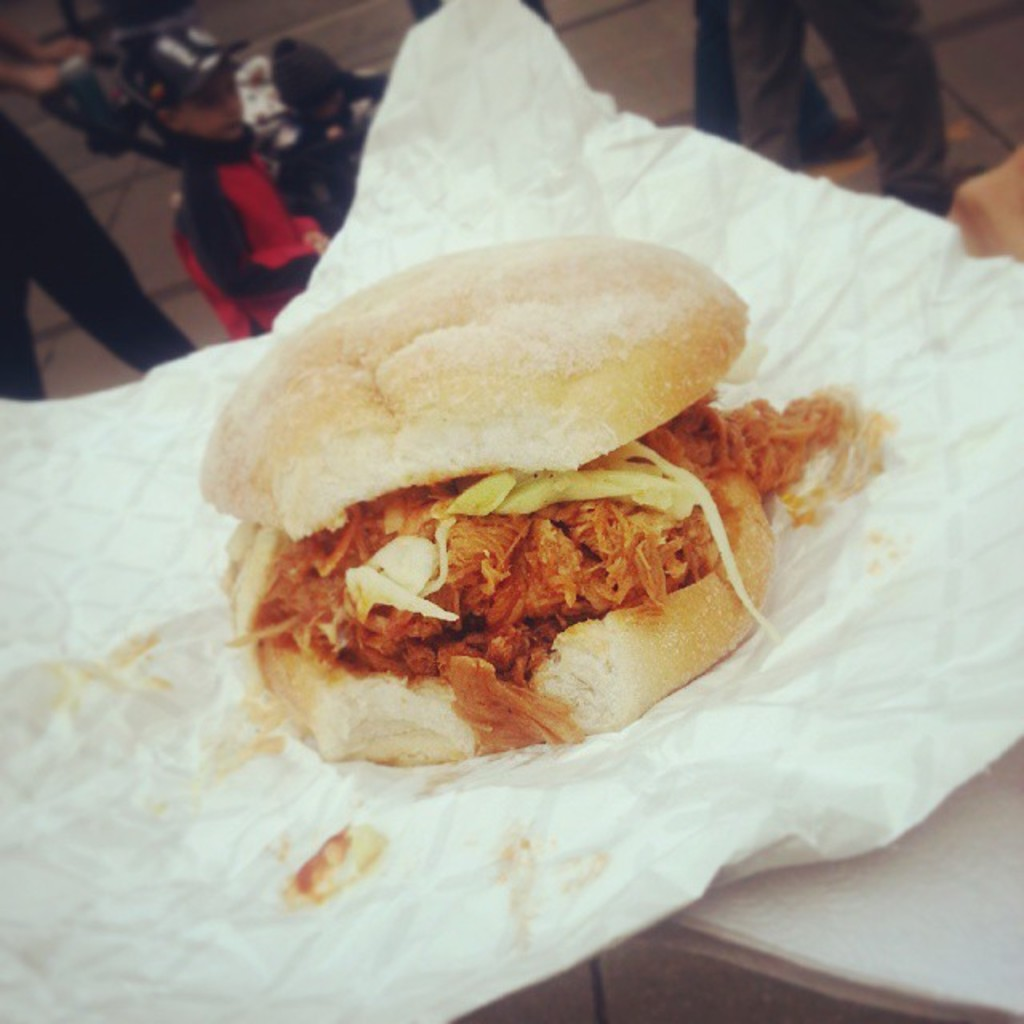person: (0, 24, 199, 406)
